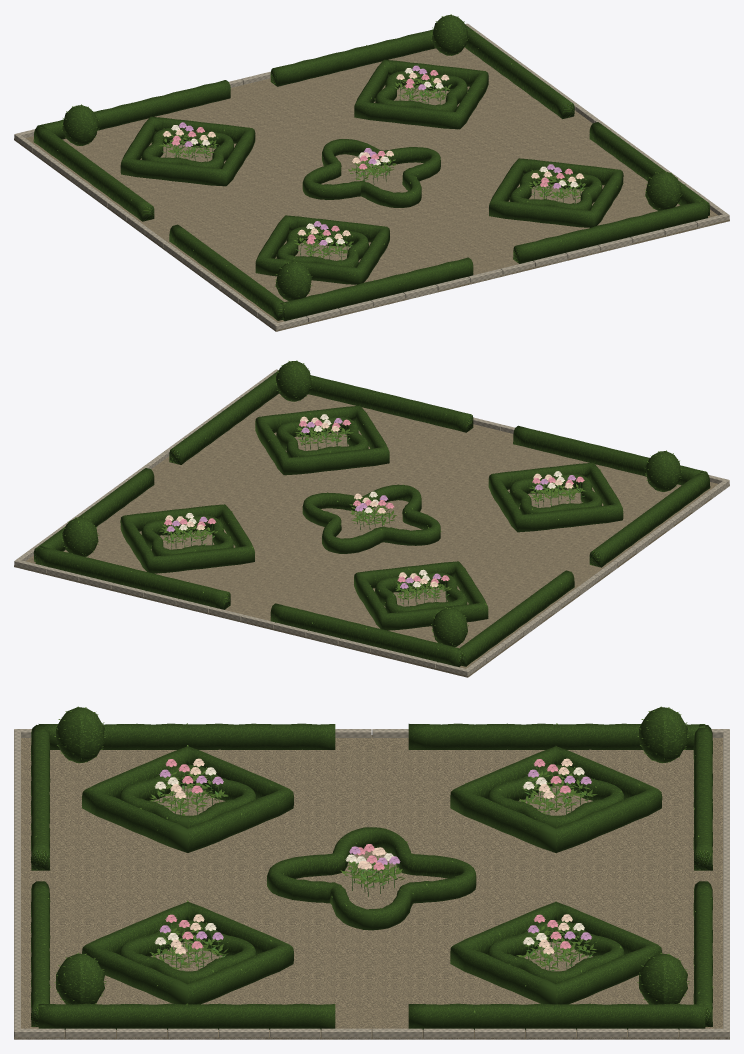
Rendered from parterre.glb.
3 views of the same model, one above another, from view 1: azimuth 30°, elevation 25°; view 2: azimuth 150°, elevation 25°; view 3: azimuth 270°, elevation 25° (orthographic). The views are drawn at different scales.
Parts seen in each view (by area): view 1: Garden_parterre; view 2: Garden_parterre; view 3: Garden_parterre.
Boxes of the visible parts, left/top/right/bottom form: Garden_parterre: left=14, top=14, right=729, bottom=331; Garden_parterre: left=14, top=360, right=729, bottom=677; Garden_parterre: left=14, top=706, right=729, bottom=1039.
Bounding box in the file's own units: 14 × 1.23 × 14.
6 materials, 4 textured.
